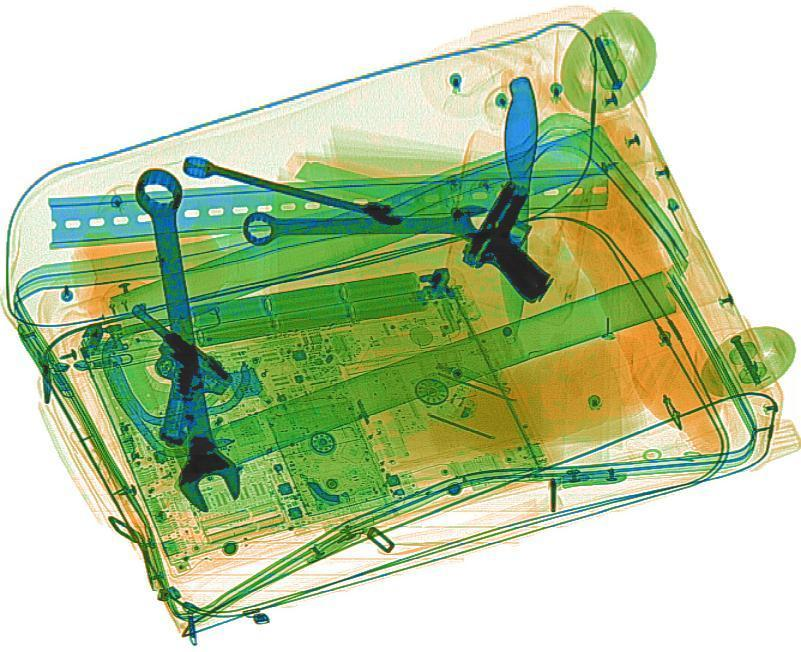Gun: (55, 299, 257, 451), (445, 179, 597, 303)
Knife: (498, 75, 539, 337)
Wrench: (130, 165, 244, 516), (178, 153, 408, 228), (241, 203, 495, 246)
